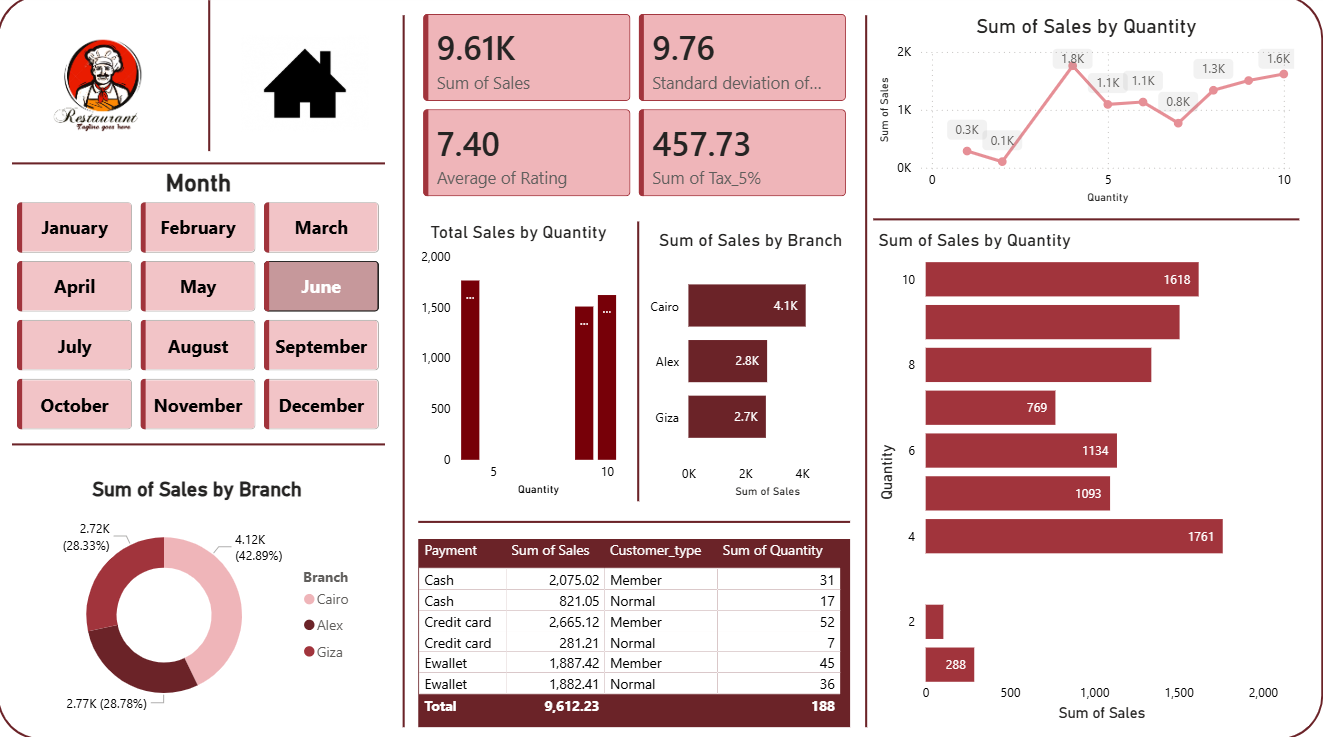

The dashboard page shown, as its layout file describes it:
{"tool":"powerbi","page":{"name":"Page 1","canvas":[1280,720],"ordinal":0},"visuals":[{"type":"advancedSlicerVisual","fields":{"Values":["SuperMarket Analysis.Date.Variation.Date Hierarchy.Month"]},"box":[14.3,164.3,360,264.3],"z":0},{"type":"image","box":[0,20,182.9,151.4],"z":1000},{"type":"image","box":[235.7,20,124.3,131.4],"z":2000},{"type":"shape","box":[14.3,155.7,360,15.7],"z":3000},{"type":"shape","box":[385.7,20,12.9,687.1],"z":4000},{"type":"shape","box":[182.9,5.7,42.9,145.7],"z":5000},{"type":"shape","box":[832.9,20,12.9,687.1],"z":6000},{"type":"donutChart","fields":{"Category":["SuperMarket Analysis.Branch"],"Y":["Sum(SuperMarket Analysis.Sales)"]},"box":[27.1,467.1,332.9,240],"z":7000},{"type":"cardVisual","fields":{"Data":["Sum(SuperMarket Analysis.Sales)","Sum(SuperMarket Analysis.Gross_Income)","Avg(SuperMarket Analysis.Rating)","Sum(SuperMarket Analysis.Tax_5%)"]},"box":[398.8,7.5,433.8,200],"z":8000},{"type":"columnChart","title":"Total Sales by Quantity","fields":{"Category":["SuperMarket Analysis.Quantity"],"Y":["Sum(SuperMarket Analysis.Sales)"]},"box":[404.3,220,198.6,270],"z":9000},{"type":"tableEx","fields":{"Values":["SuperMarket Analysis.Payment","Sum(SuperMarket Analysis.Sales)","SuperMarket Analysis.Customer_type","Sum(SuperMarket Analysis.Quantity)"]},"box":[407.1,525.7,417.1,181.4],"z":10000},{"type":"shape","box":[407.1,502.9,417.1,12.9],"z":11000},{"type":"shape","box":[615.7,220,7.1,270],"z":12000},{"type":"shape","box":[14.3,428.6,360,12.9],"z":13000},{"type":"clusteredBarChart","fields":{"Y":["Sum(SuperMarket Analysis.Sales)"],"Category":["SuperMarket Analysis.Branch"]},"box":[622.9,227.1,210,264.3],"z":14000},{"type":"lineChart","fields":{"Category":["SuperMarket Analysis.Quantity"],"Y":["Sum(SuperMarket Analysis.Sales)"]},"box":[845.7,20,411.4,187.1],"z":15000},{"type":"shape","box":[845.7,207.1,411.4,20],"z":16000},{"type":"clusteredBarChart","fields":{"Y":["Sum(SuperMarket Analysis.Sales)"],"Category":["SuperMarket Analysis.Quantity"]},"box":[846,227,411,480],"z":17000},{"type":"shape","box":[0,0,1280,720.2],"z":18000}]}

Visuals, with their boxes in screenshot pixels (x1, y1, x2, y2), scaled from the page's 1280x720 canvas onto the 1323x737 screenshot:
advancedSlicerVisual - SuperMarket Analysis.Date.Variation.Date Hierarchy.Month: bbox=(15, 168, 387, 439)
image: bbox=(0, 20, 189, 175)
image: bbox=(244, 20, 372, 155)
shape: bbox=(15, 159, 387, 175)
shape: bbox=(399, 20, 412, 724)
shape: bbox=(189, 6, 233, 155)
shape: bbox=(861, 20, 874, 724)
donutChart - SuperMarket Analysis.Branch x Sum(SuperMarket Analysis.Sales): bbox=(28, 478, 372, 724)
cardVisual - Sum(SuperMarket Analysis.Sales) x Sum(SuperMarket Analysis.Gross_Income): bbox=(412, 8, 861, 212)
"Total Sales by Quantity" columnChart: bbox=(418, 225, 623, 502)
tableEx - SuperMarket Analysis.Payment x Sum(SuperMarket Analysis.Sales): bbox=(421, 538, 852, 724)
shape: bbox=(421, 515, 852, 528)
shape: bbox=(636, 225, 644, 502)
shape: bbox=(15, 439, 387, 452)
clusteredBarChart - Sum(SuperMarket Analysis.Sales) x SuperMarket Analysis.Branch: bbox=(644, 232, 861, 503)
lineChart - SuperMarket Analysis.Quantity x Sum(SuperMarket Analysis.Sales): bbox=(874, 20, 1299, 212)
shape: bbox=(874, 212, 1299, 232)
clusteredBarChart - Sum(SuperMarket Analysis.Sales) x SuperMarket Analysis.Quantity: bbox=(874, 232, 1299, 724)
shape: bbox=(0, 0, 1322, 736)
